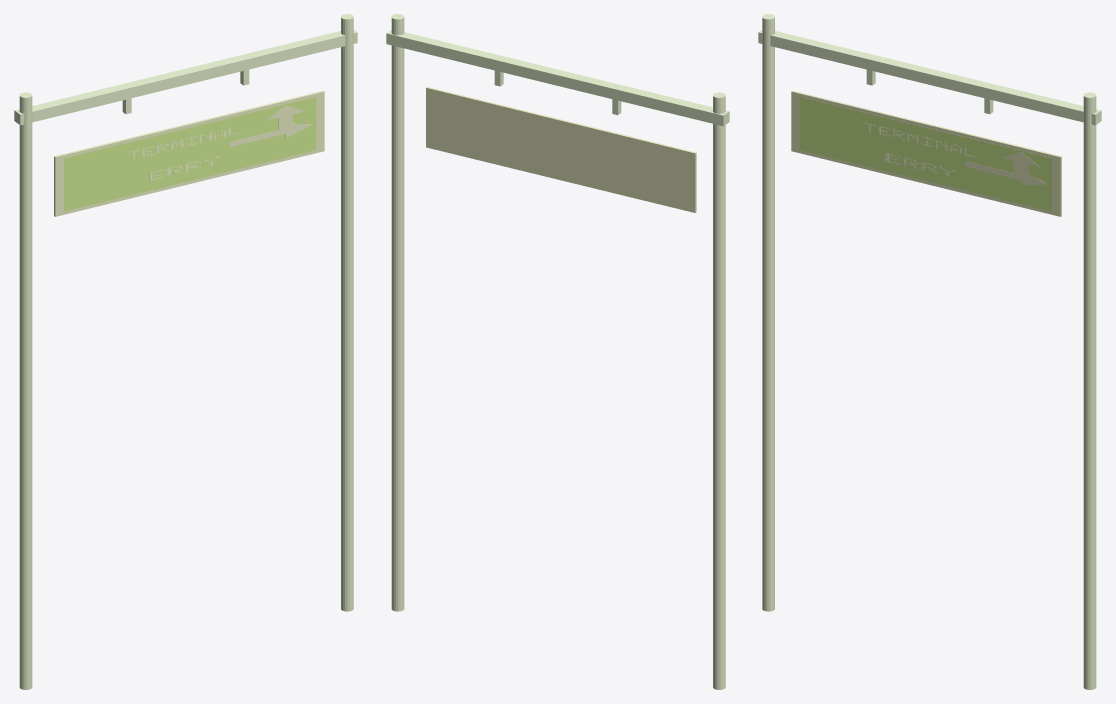
The model's file is sign_overhead_ferry_terminal_right.glb.
3 views of the same model, side by side, from view 1: azimuth 30°, elevation 25°; view 2: azimuth 150°, elevation 25°; view 3: azimuth 330°, elevation 25° (orthographic).
Visible parts, largest first — view 1: layer_1_00, pole_left, pole_right, crossbar, plate_base_00; view 2: plate_base_00, pole_right, pole_left, crossbar; view 3: layer_1_00, pole_right, pole_left, crossbar, plate_base_00.
Boxes of the visible parts, box(x1,y1,x2,y2) form: layer_1_00: box(63, 97, 316, 211); pole_left: box(19, 92, 32, 689); pole_right: box(341, 14, 353, 611); crossbar: box(14, 30, 357, 125); plate_base_00: box(54, 90, 324, 216); plate_base_00: box(426, 87, 696, 212); pole_right: box(391, 14, 404, 611); pole_left: box(713, 92, 725, 689); crossbar: box(386, 30, 729, 126); layer_1_00: box(799, 97, 1052, 211); pole_right: box(1083, 92, 1096, 689); pole_left: box(762, 14, 774, 611); crossbar: box(758, 30, 1101, 125); plate_base_00: box(791, 90, 1061, 216).
Size of the model in its own units: 2.98 by 5 by 0.108.
